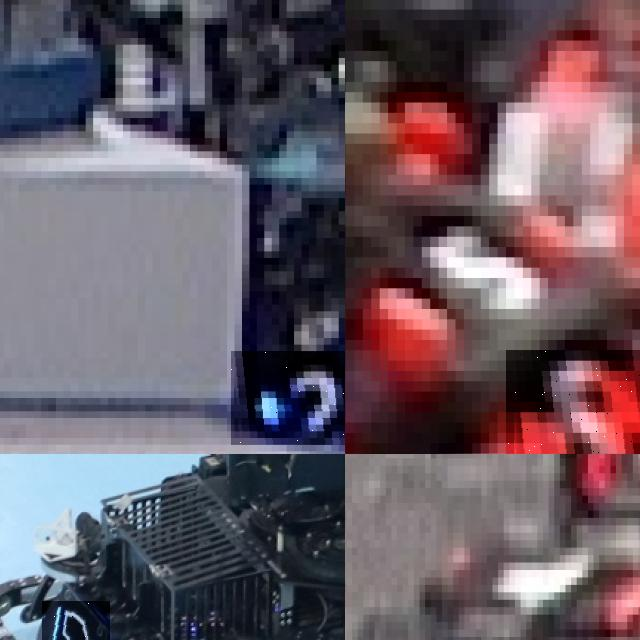B2: (230, 351, 345, 444)
Bs: (42, 601, 110, 640)
R4: (433, 491, 640, 640)
R5: (506, 350, 640, 454)
